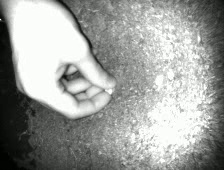corn: (152, 71, 165, 88), (102, 86, 114, 96), (110, 85, 118, 95)
